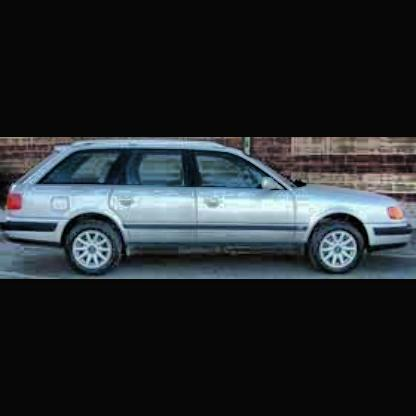Audi 100 Wagon 1994: (4, 139, 416, 280)
